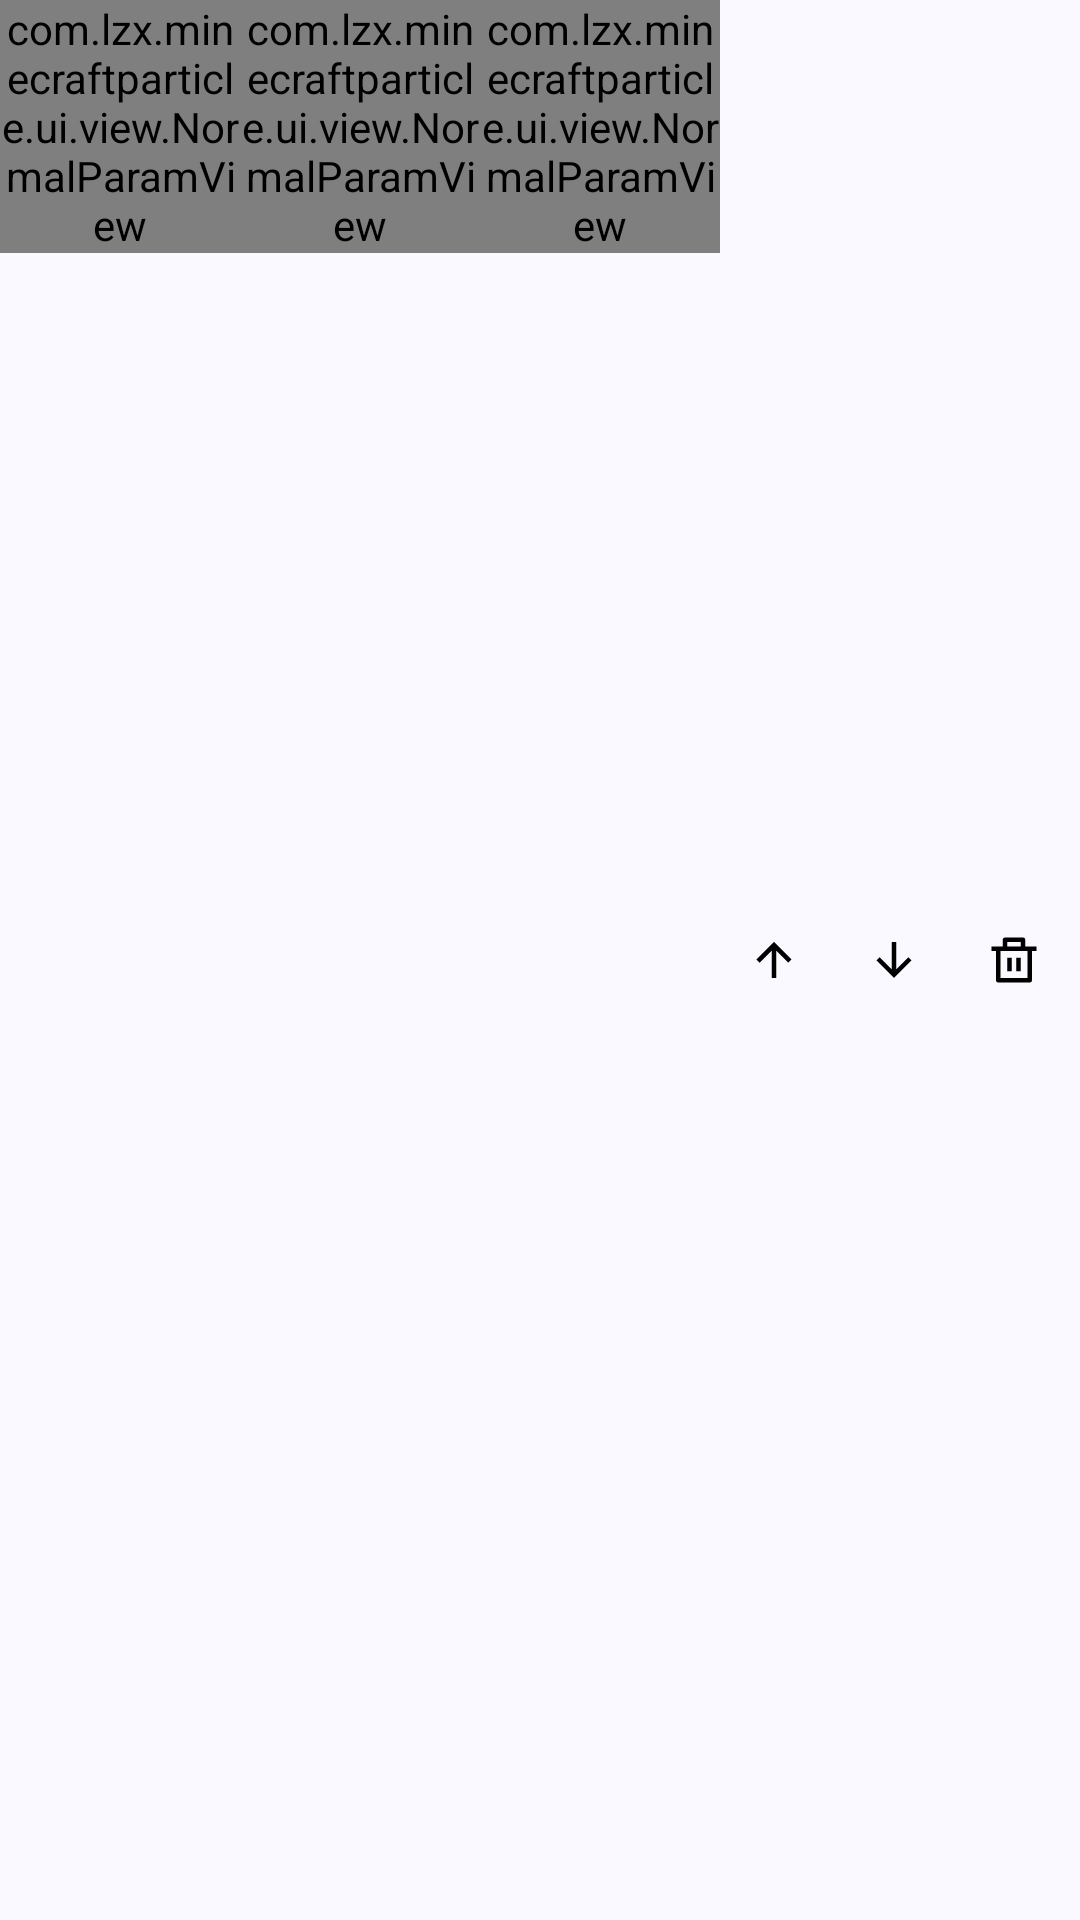

Icons on this 1080*1920 Android screen, each with the point to tap as [x,y]:
arrow down: [894,960]
arrow up: [774,960]
remove: [1014,960]
